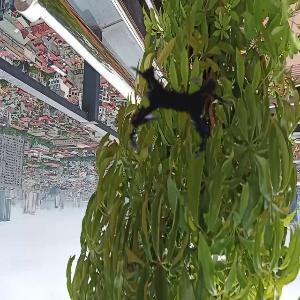drone: (82, 8, 279, 205)
